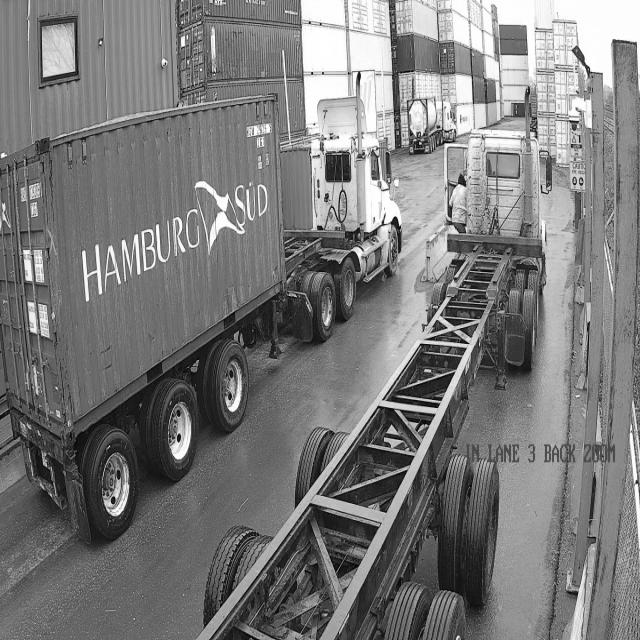container_company_logo: (75, 165, 270, 314)
driver: (449, 173, 467, 232)
truck_with_container: (0, 74, 402, 542)
truck_without_container: (198, 115, 552, 639)
